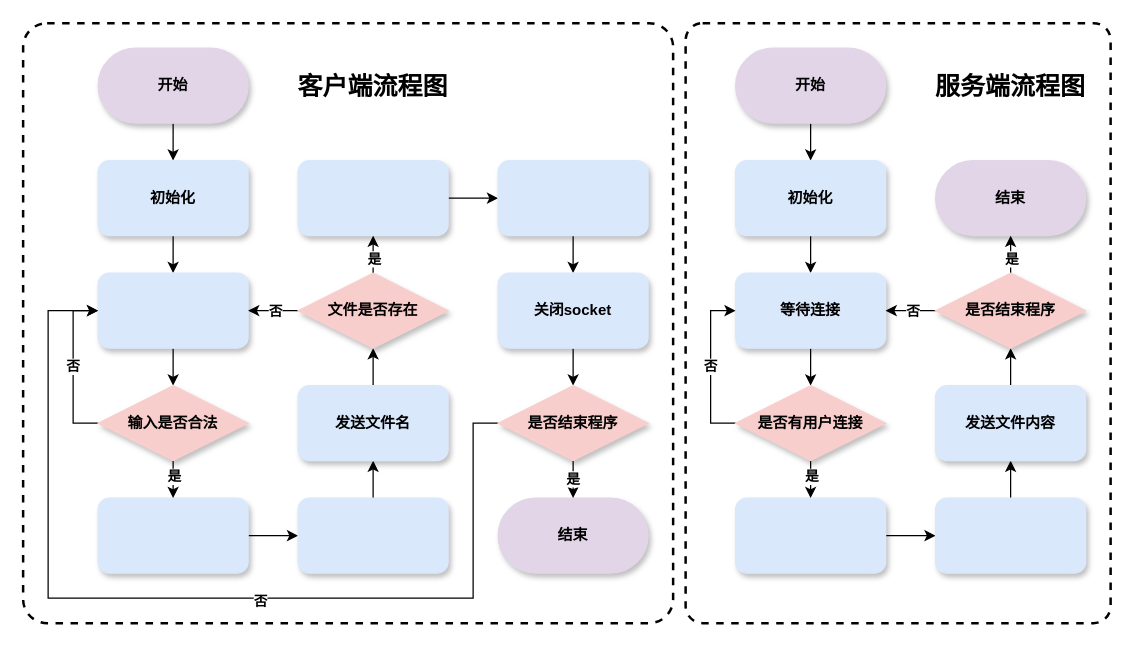
Some shapes in this 1133 by 645 pixel diagram are drawn without their labels. The shapes that lost their labels are listed below. From the top down, each one's centre as x and y in pixels, then its label:
(374,199): 本地创建bak文件
(574,199): 接收文件数据
(174,312): 客户端输入请求
(174,537): 创建客户端socket
(374,537): 连接服务端
(811,537): 接受客户端连接 获取客户端socket
(1011,537): 接收文件名
